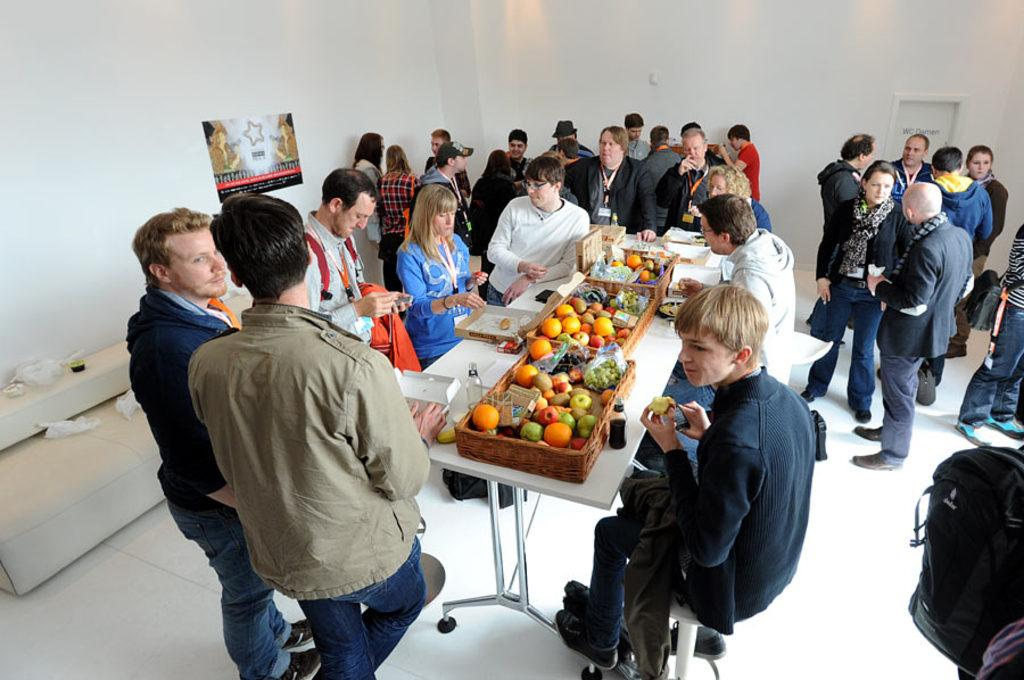Luggage-and-bags: (918, 445, 1019, 652), (303, 223, 357, 305), (964, 260, 1023, 333)
